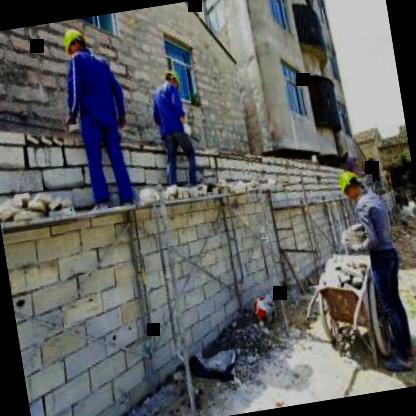helmet: (332, 164, 364, 204), (57, 24, 89, 62), (161, 65, 182, 93)
